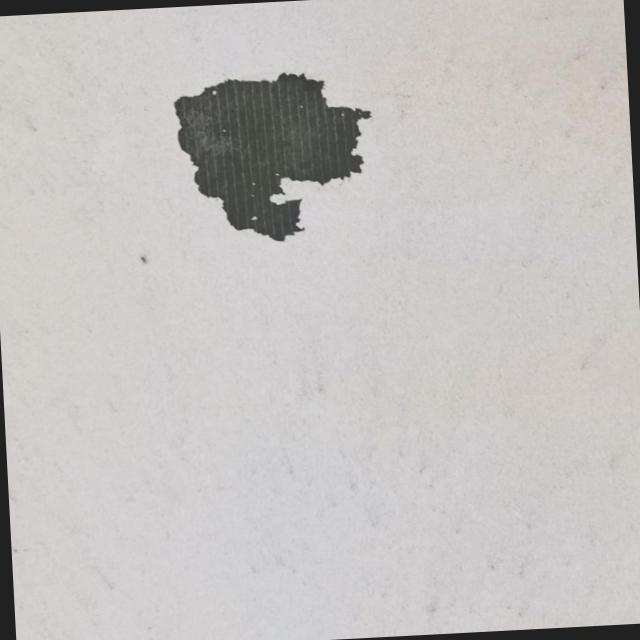surface_peeling: (164, 60, 392, 257)
